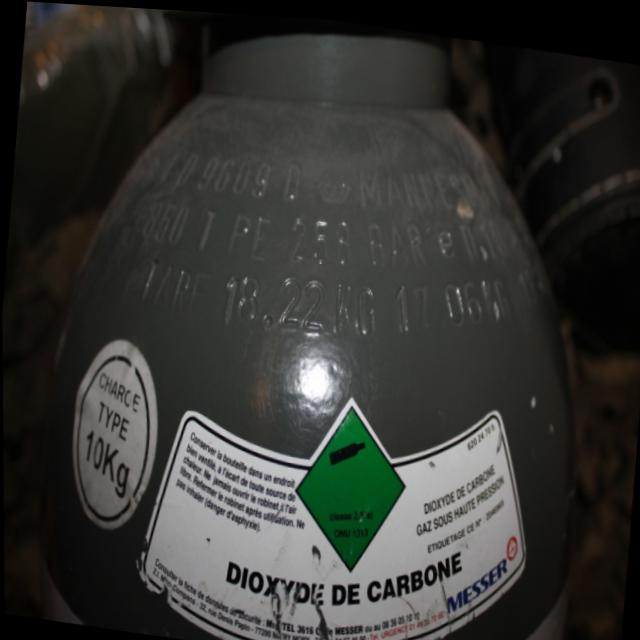ocr: (220, 262, 381, 352), (147, 138, 310, 208), (354, 157, 492, 208), (131, 253, 211, 328), (284, 203, 362, 274), (360, 206, 430, 282), (433, 210, 521, 266), (437, 264, 521, 316), (219, 201, 275, 267), (138, 191, 195, 250), (388, 275, 434, 337)
